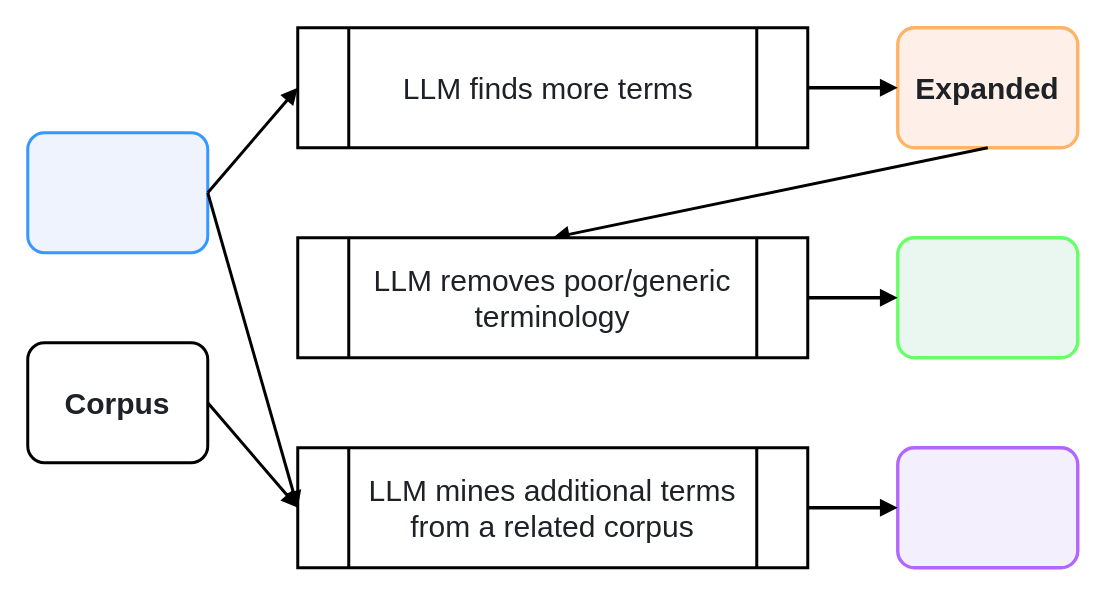
This 1106x596 diagram has some shape labels left out. Here are the shapes that lost their labels. From the top down, the centre of each, then its label:
At (117,192): "Original".
At (987,297): "Cleaned".
At (987,507): "Dictionary".
